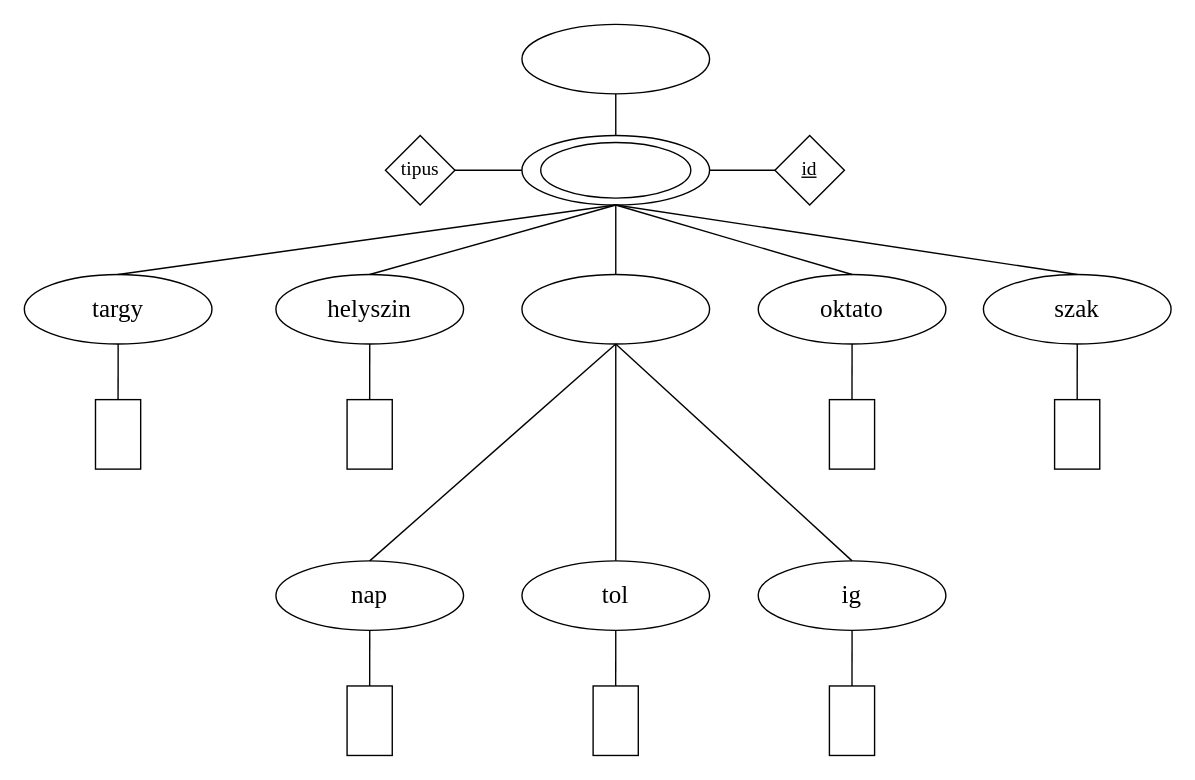
Some shapes in this 1195 by 780 pixel diagram are drawn without their labels. Each missing label, with the centre of its shape:
CUNPO1: point 615,58
idopont: point 615,308
ora: point 615,169
